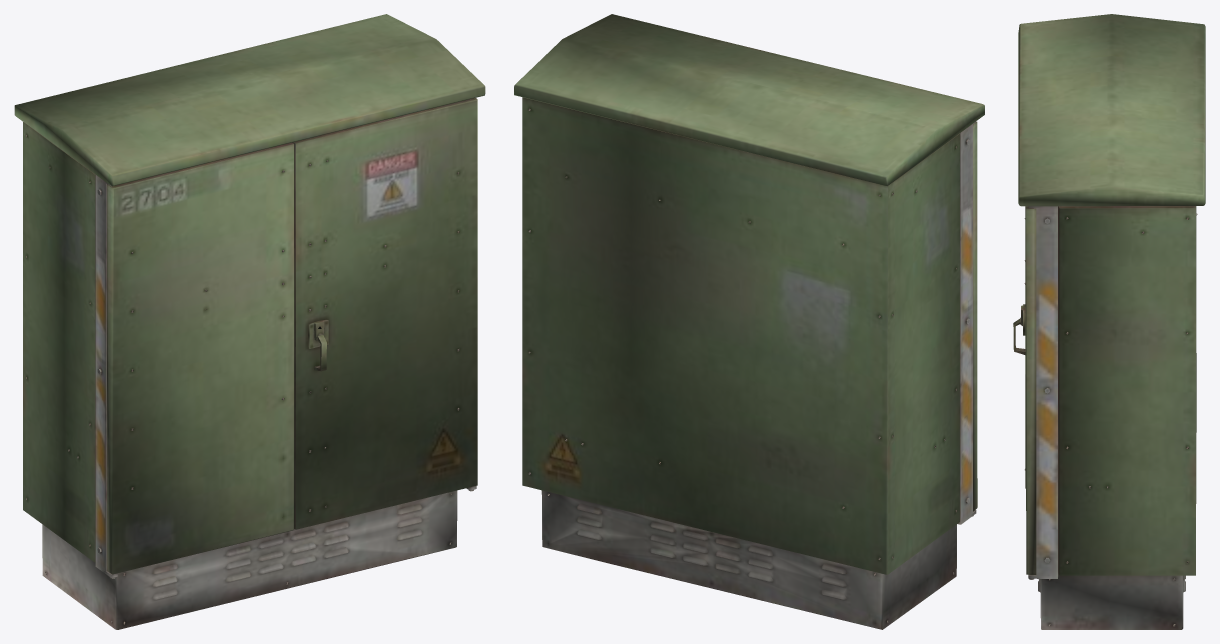
Rendered from utility_box_02.glb.
3 views of the same model, side by side, from view 1: azimuth 30°, elevation 25°; view 2: azimuth 150°, elevation 25°; view 3: azimuth 270°, elevation 25° (orthographic). The views are drawn at different scales.
Parts seen in each view (by area): view 1: utility_box_02; view 2: utility_box_02; view 3: utility_box_02.
Boxes of the visible parts, bbox=[...] form: utility_box_02: bbox=[14, 14, 485, 629]; utility_box_02: bbox=[514, 14, 984, 629]; utility_box_02: bbox=[1013, 14, 1205, 629].
Bounding box in the file's own units: 0.9165 × 1.12 × 0.4312.
1 material, 1 textured.
